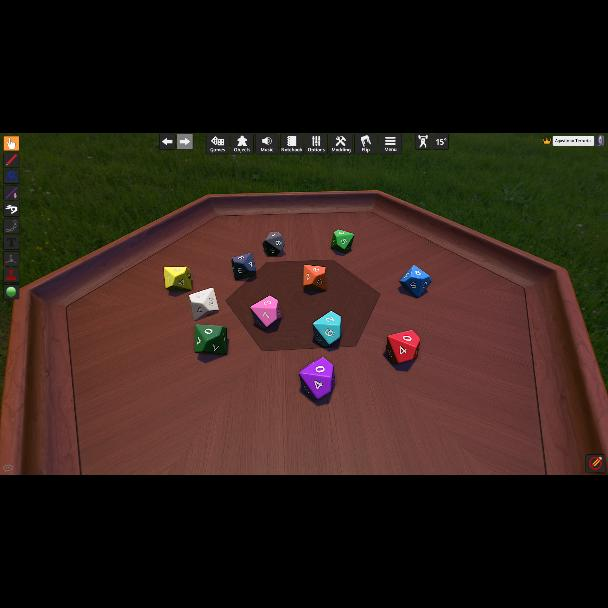d10: (297, 356, 339, 404), (387, 330, 419, 366), (250, 296, 282, 330), (400, 264, 432, 298), (188, 288, 220, 320), (194, 325, 228, 355), (313, 310, 340, 346), (164, 266, 192, 292), (232, 253, 256, 281), (262, 232, 286, 256), (302, 265, 324, 291), (330, 229, 352, 253)
